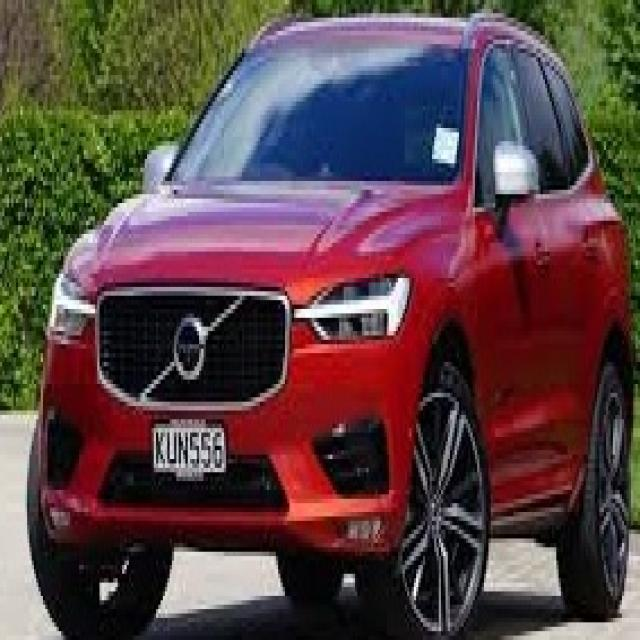maroon: (29, 0, 639, 640)
